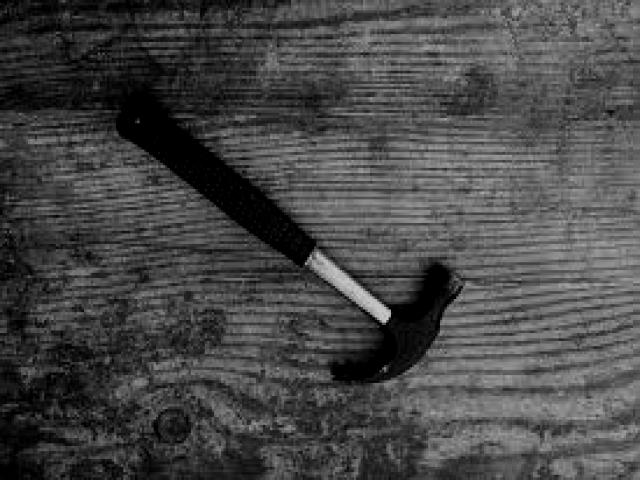Hammer: (116, 98, 462, 381)
